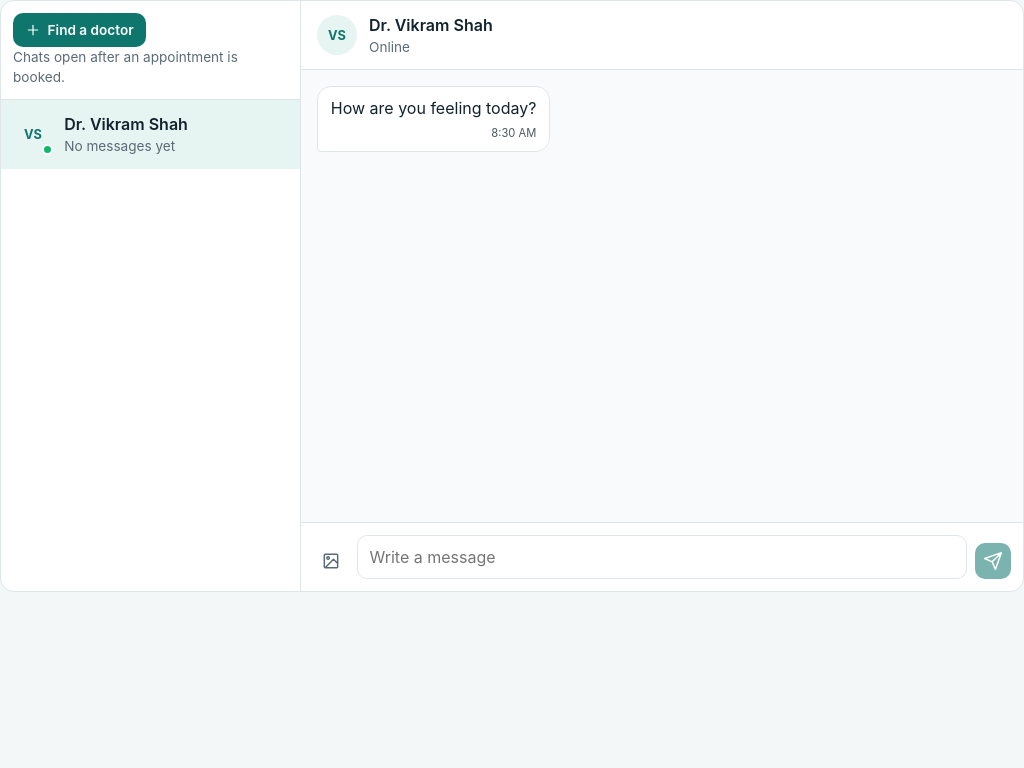
it: ChatView › shows history, marks it read and sends messages
expect the text "How are you feeling today?" is shown: met, box top-left (331, 96), bottom-right (536, 120)
expect the text "Online" is shown: met, box top-left (369, 39), bottom-right (410, 55)
Type "Much better, thanks" into the field labelled "message" at (662, 557), box top-left (357, 535), bottom-right (967, 579)
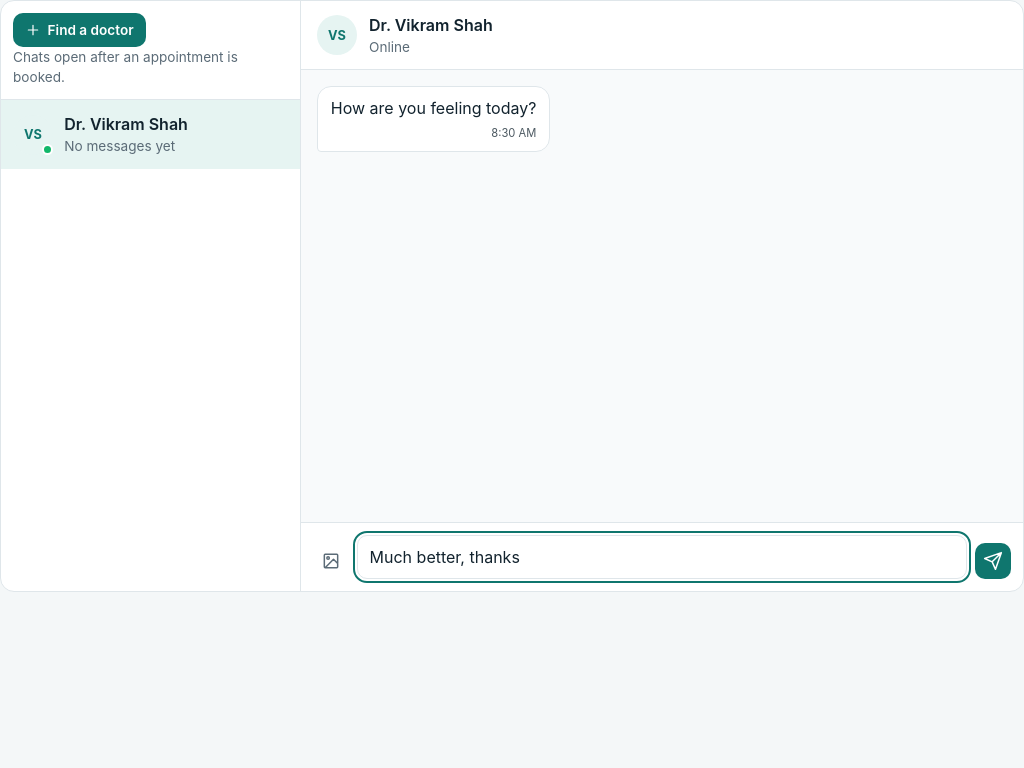
Click the button named "Send" at (993, 561), box top-left (975, 543), bottom-right (1011, 579)
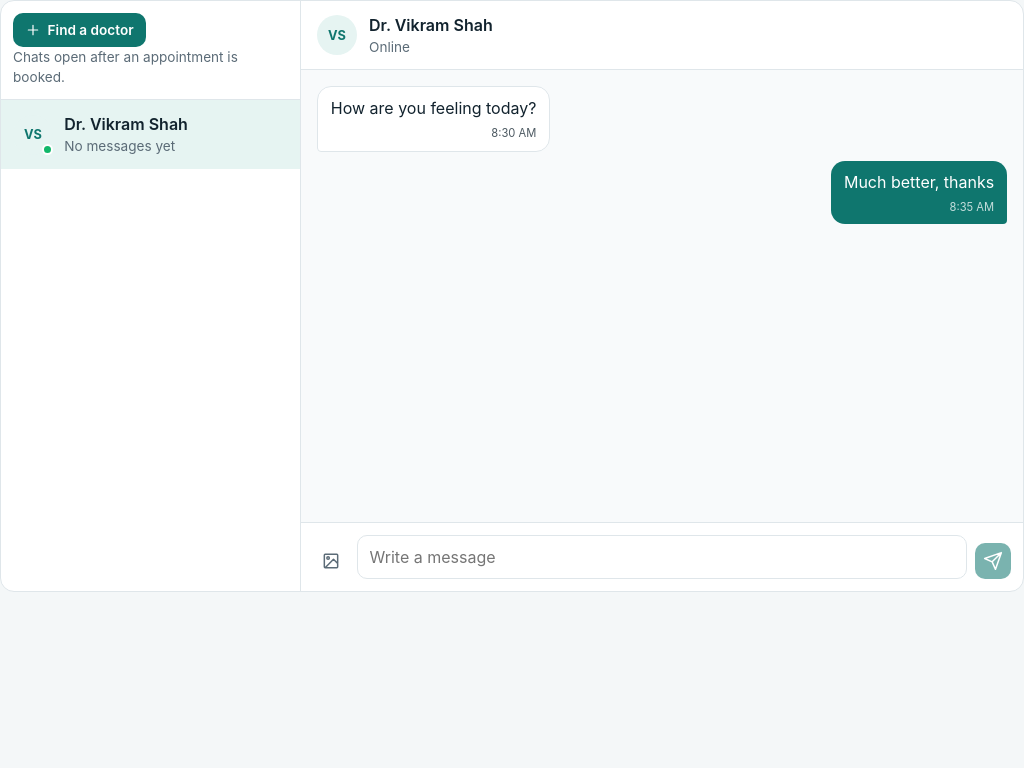
expect the text "Much better, thanks" is shown: met, box top-left (844, 170), bottom-right (994, 194)
